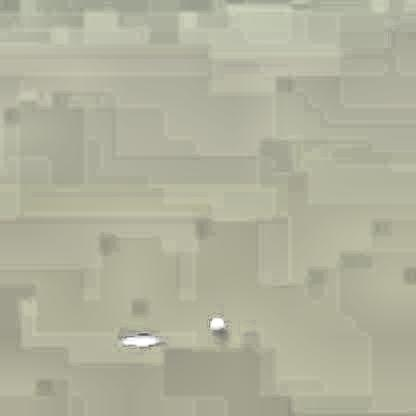golfball: (208, 314, 223, 329)
